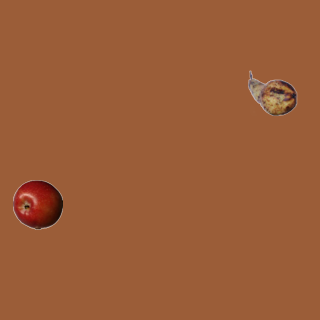Apple Braeburn: (12, 179, 62, 229)
Pear Abate: (247, 68, 297, 118)
